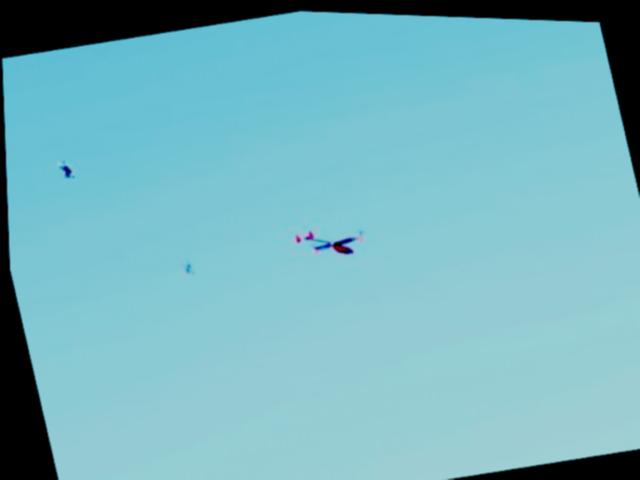uav: (284, 200, 372, 269)
